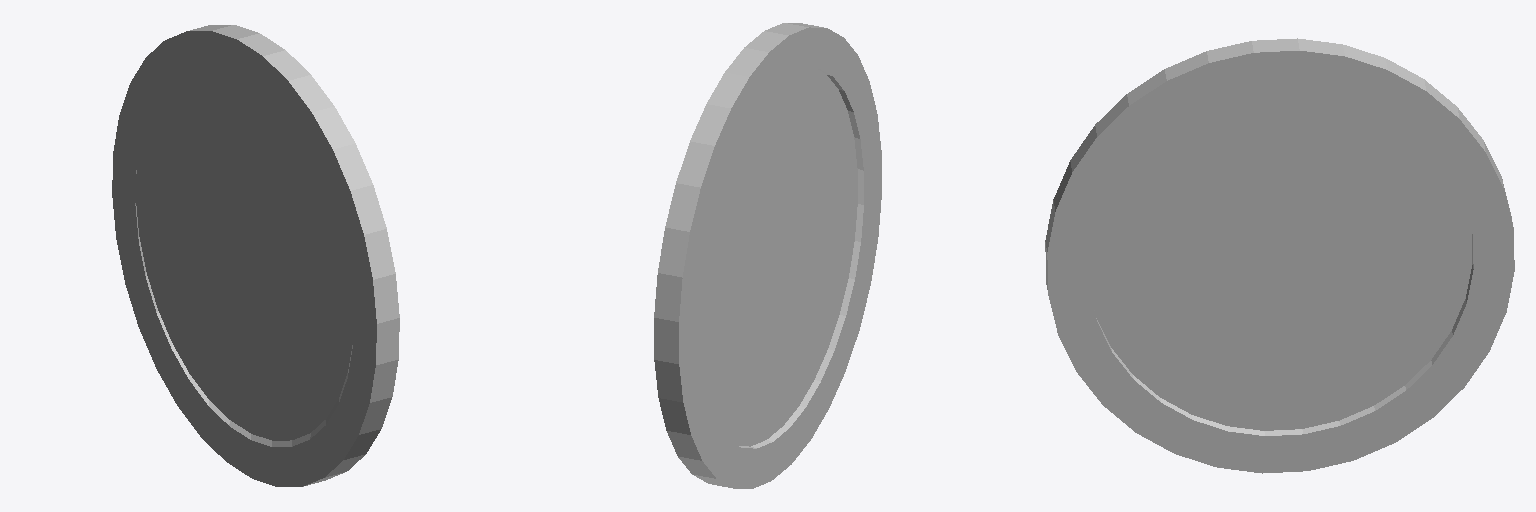
Rendered from coin.obj.
3 views of the same model, side by side, from view 1: azimuth 30°, elevation 25°; view 2: azimuth 150°, elevation 25°; view 3: azimuth 270°, elevation 25° (orthographic).
Visible parts, largest first — view 1: Cylinder; view 2: Cylinder; view 3: Cylinder.
Boxes of the visible parts, x1,y1,x2,y2 form: Cylinder: [112, 25, 399, 486]; Cylinder: [654, 23, 881, 488]; Cylinder: [1045, 38, 1514, 473].
Size of the model in its own units: 0.1356 by 0.9977 by 0.9984.